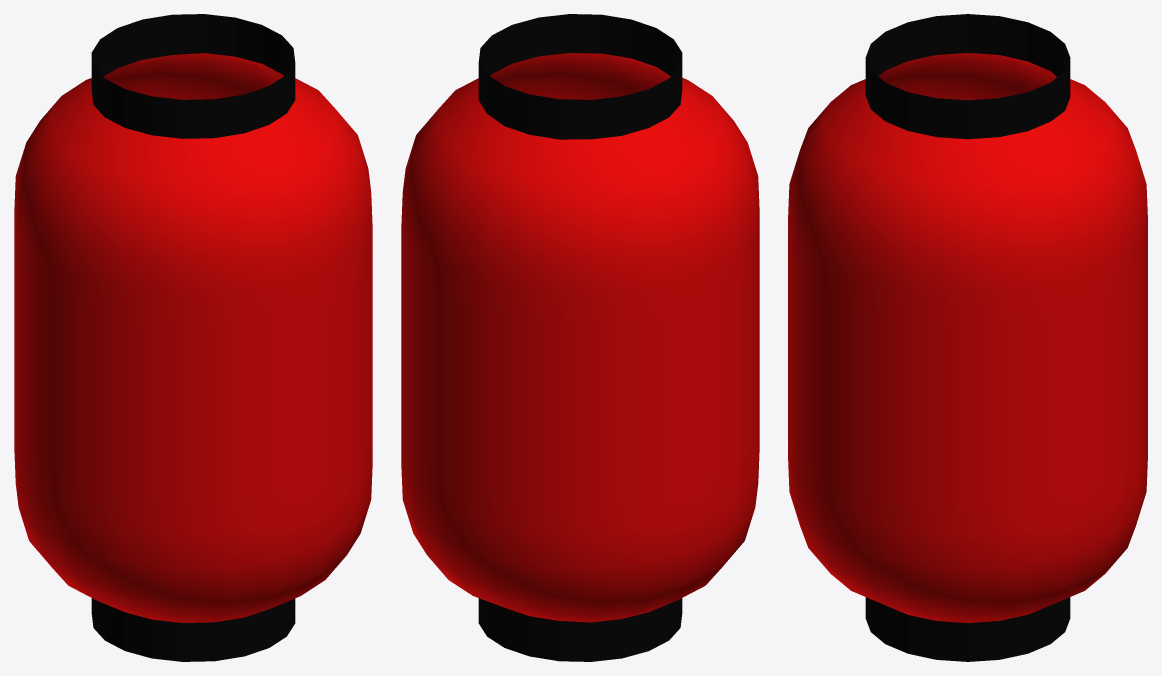
File: lanp.fbx
The picture shows the model from 3 angles, left to right: view 1: azimuth 30°, elevation 25°; view 2: azimuth 150°, elevation 25°; view 3: azimuth 270°, elevation 25°; orthographic projection.
Visible parts, largest first — view 1: pCylinder1; view 2: pCylinder1; view 3: pCylinder1.
Part boxes in pixels (box(x1,y1,x2,y2)): pCylinder1: box(14, 14, 372, 661); pCylinder1: box(401, 14, 759, 661); pCylinder1: box(788, 14, 1147, 661).
Bounding box in the file's own units: 30 × 51.65 × 30.
